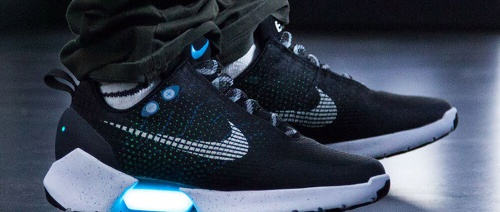nike: (99, 113, 251, 166)
